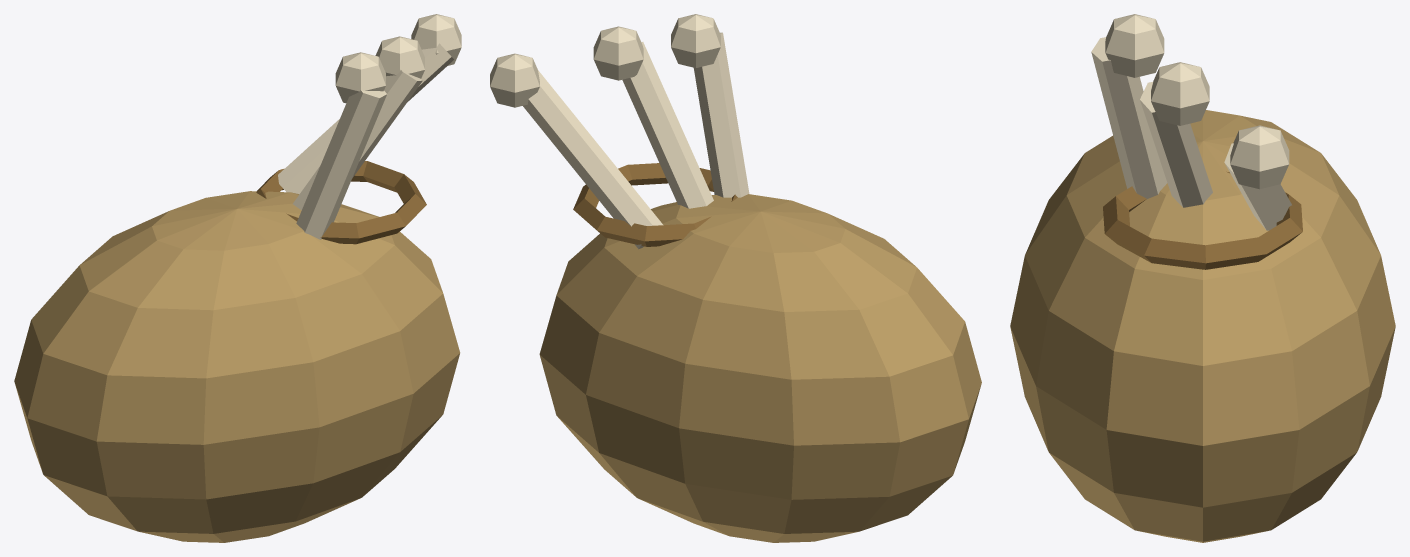
File: bone_bag.glb
The picture shows the model from 3 angles, left to right: view 1: azimuth 30°, elevation 25°; view 2: azimuth 150°, elevation 25°; view 3: azimuth 270°, elevation 25°; orthographic projection. The views are drawn at different scales.
Visible parts, largest first — view 1: sack_burlap, bones_fossil, sack_rope; view 2: sack_burlap, bones_fossil, sack_rope; view 3: sack_burlap, bones_fossil, sack_rope.
Boxes of the visible parts, left/top/right/bottom form: sack_burlap: left=14, top=191, right=460, bottom=542; bones_fossil: left=278, top=14, right=461, bottom=239; sack_rope: left=256, top=161, right=426, bottom=244; sack_burlap: left=539, top=194, right=981, bottom=542; bones_fossil: left=490, top=14, right=749, bottom=249; sack_rope: left=573, top=163, right=737, bottom=246; sack_burlap: left=1010, top=110, right=1395, bottom=542; bones_fossil: left=1091, top=14, right=1291, bottom=230; sack_rope: left=1103, top=171, right=1302, bottom=269.
Bounding box in the file's own units: 0.5462 × 0.5351 × 0.34.
